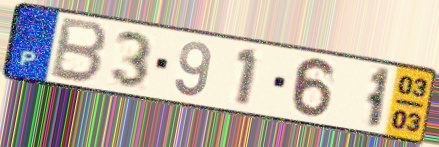1: (366, 65, 395, 133), (233, 47, 260, 110)
3: (109, 29, 156, 90)
6: (289, 55, 338, 121)
9: (173, 39, 214, 99)
B: (46, 14, 111, 86)
